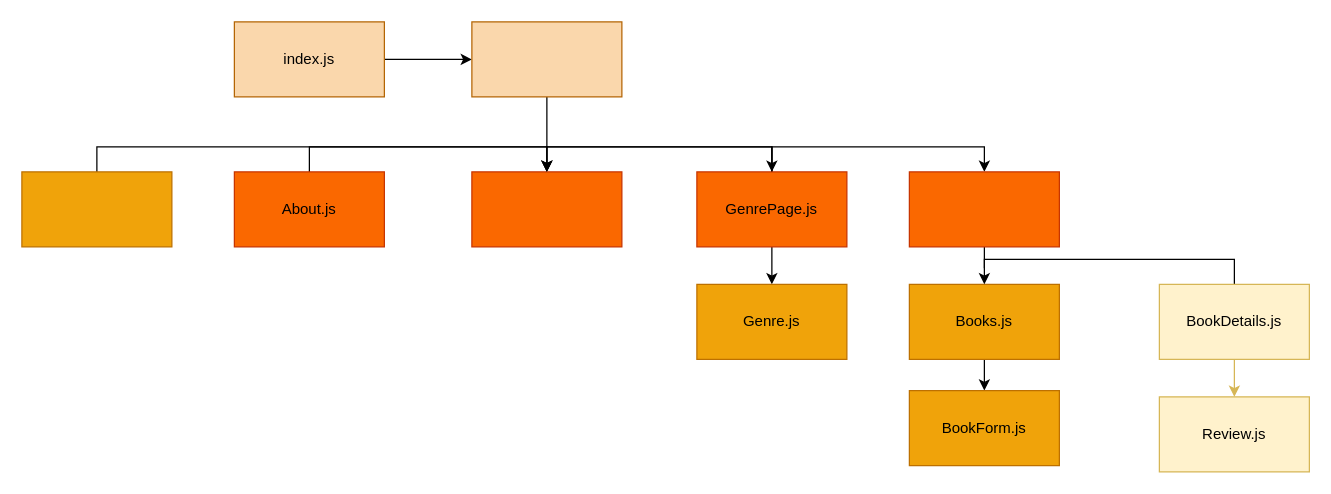
This 1331x494 diagram has some shape labels left out. The shapes that lost their labels are listed below. From the top down, each one's centre as x and y in pixels, then its label:
the point at 546,59: app.js
the point at 96,209: Nav.js
the point at 546,209: Home.js
the point at 983,209: BookPage.js
